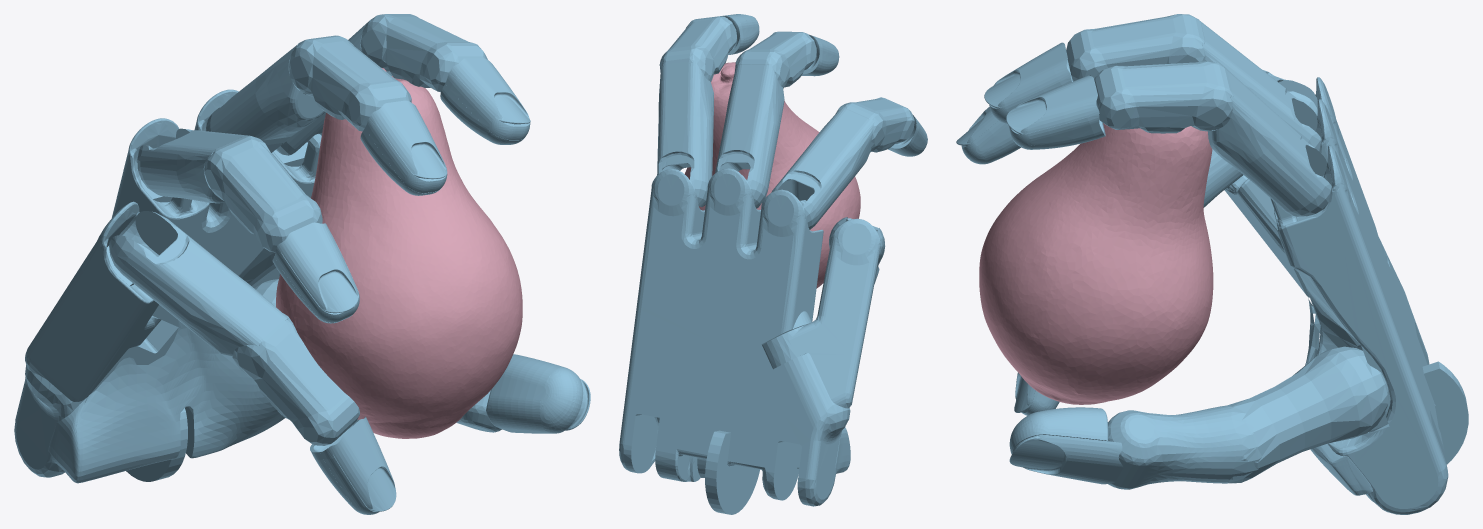
3 renders of one model, left to right at view 1: azimuth 30°, elevation 25°; view 2: azimuth 150°, elevation 25°; view 3: azimuth 270°, elevation 25°, orthographic. The views are drawn at different scales.
Visible parts, largest first — view 1: world, pear.stl; view 2: world, pear.stl; view 3: world, pear.stl.
Part boxes in pixels (<box>): world: <box>14,14,590,514</box>; pear.stl: <box>276,68,522,438</box>; world: <box>619,14,927,514</box>; pear.stl: <box>684,62,860,288</box>; world: <box>956,14,1468,514</box>; pear.stl: <box>979,123,1213,404</box>.
Bounding box in the file's own units: 0.1257 × 0.1533 × 0.1437.
